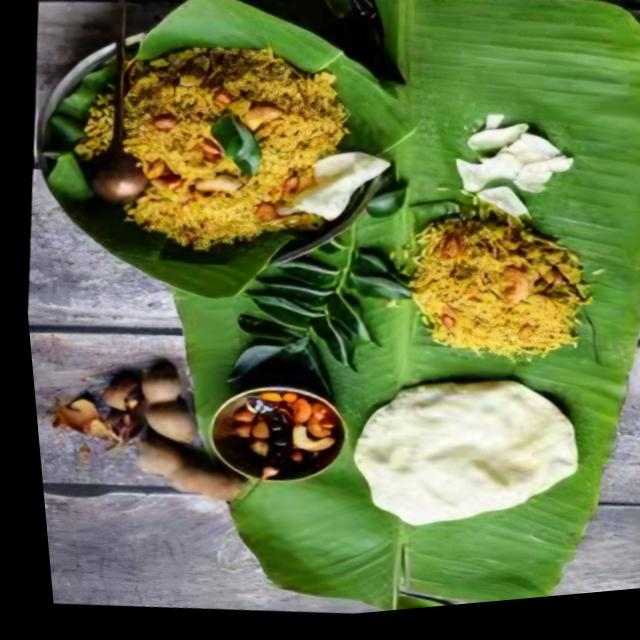BIRIYANI: (72, 46, 352, 253), (408, 207, 589, 361)
PAPADAM: (348, 378, 580, 527)
